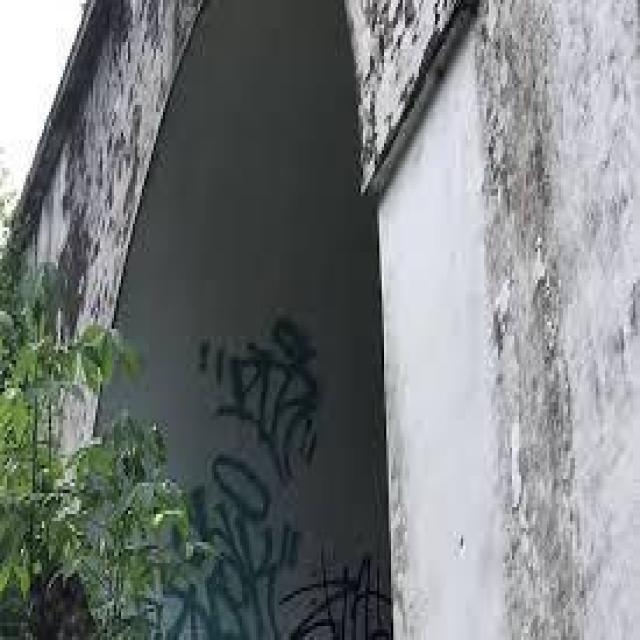nonspitting: (142, 451, 301, 640), (198, 314, 324, 486), (282, 542, 392, 640)
